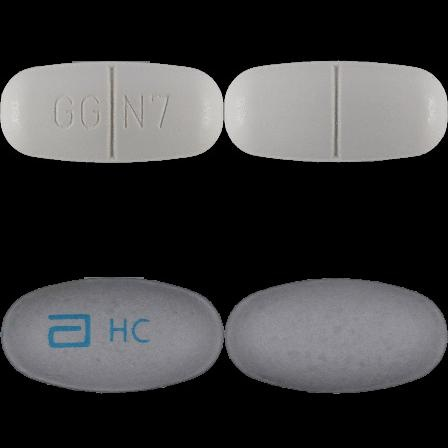54868-4951: (0, 0, 224, 224)
